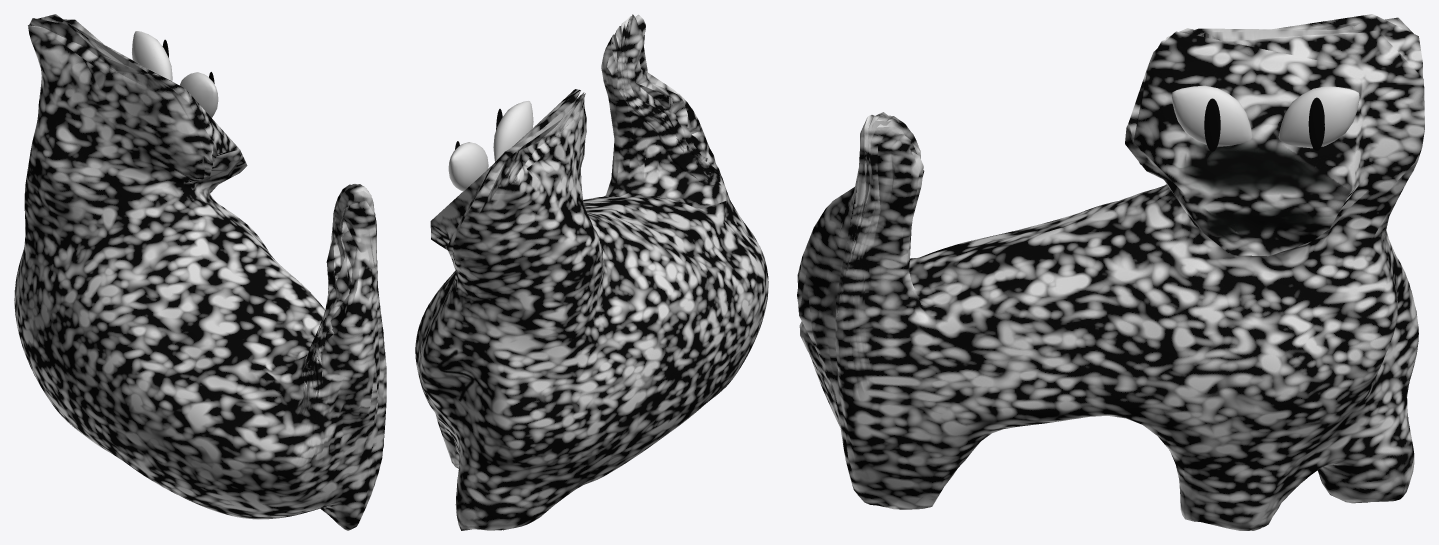
3 renders of one model, left to right at view 1: azimuth 30°, elevation 25°; view 2: azimuth 150°, elevation 25°; view 3: azimuth 270°, elevation 25°, orthographic. The views are drawn at different scales.
Parts seen in each view (by area): view 1: Leopard.2; view 2: Leopard.2; view 3: Leopard.2.
Boxes of the visible parts, x1,y1,x2,y2 form: Leopard.2: (14,14,386,530); Leopard.2: (415,14,768,530); Leopard.2: (797,14,1424,530).
Bounding box in the file's own units: 4.31 × 7.11 × 8.75.
Materials: 1 (1 with a texture image).
